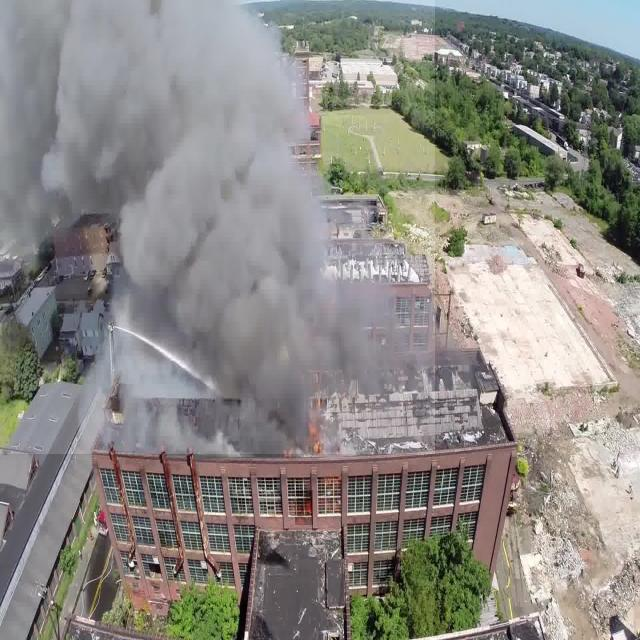Fire: (306, 400, 325, 446), (295, 490, 313, 525)
Smoke: (0, 0, 435, 454)
